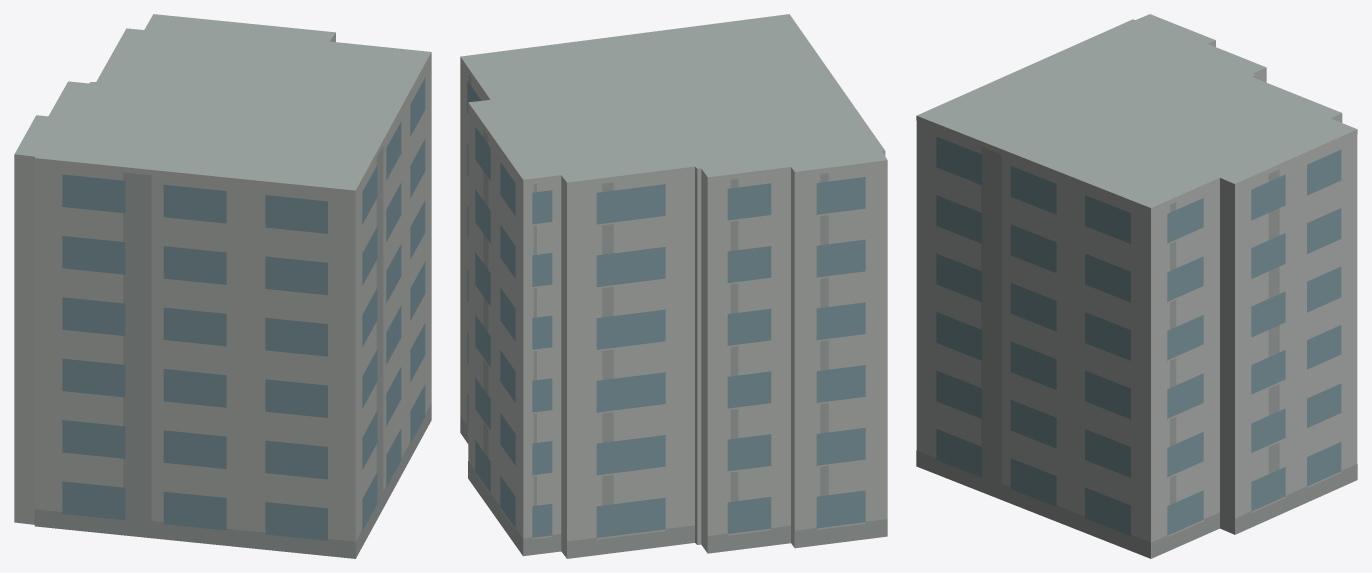
File: survey-upis-32832762.glb
3 renders of one model, left to right at view 1: azimuth 30°, elevation 25°; view 2: azimuth 150°, elevation 25°; view 3: azimuth 270°, elevation 25°, orthographic. The views are drawn at different scales.
Parts seen in each view (by area): view 1: survey-upis-32832762.tmp; view 2: survey-upis-32832762.tmp; view 3: survey-upis-32832762.tmp.
Boxes of the visible parts, <box> form: survey-upis-32832762.tmp: <box>14,14,431,558</box>; survey-upis-32832762.tmp: <box>460,14,887,558</box>; survey-upis-32832762.tmp: <box>916,14,1357,558</box>.
Bounding box in the file's own units: 19.77 × 16.65 × 18.98.
